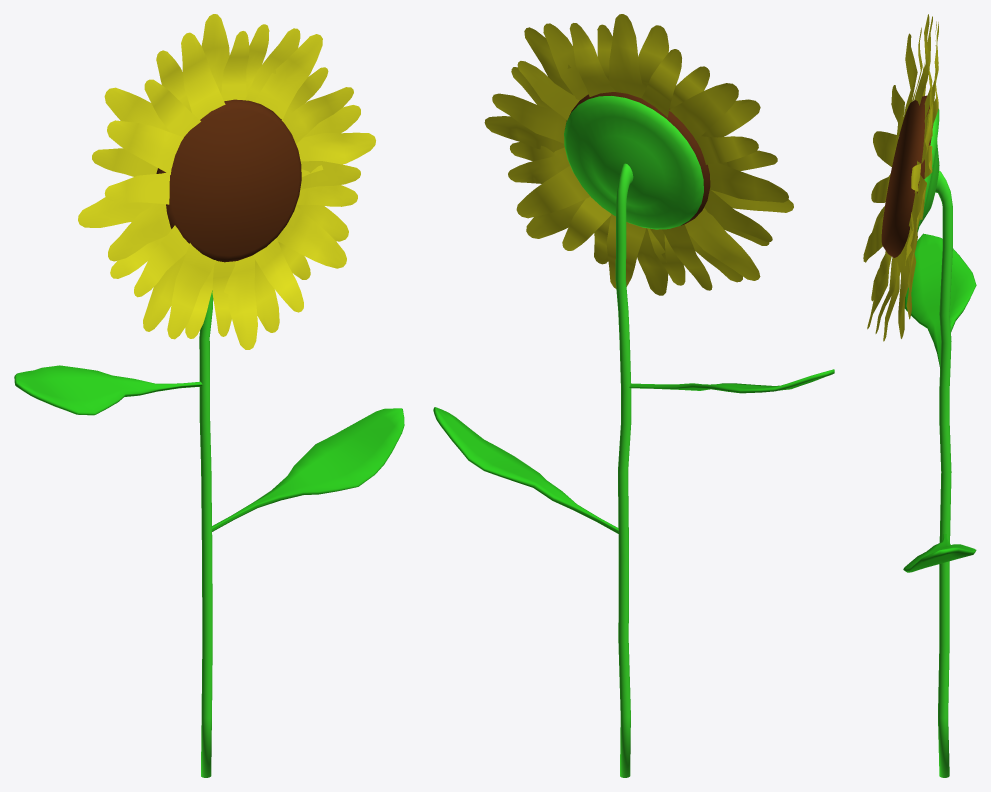
File: sunflower.fbx
The picture shows the model from 3 angles, left to right: view 1: azimuth 30°, elevation 25°; view 2: azimuth 150°, elevation 25°; view 3: azimuth 270°, elevation 25°; orthographic projection.
Visible parts, largest first — view 1: Cabeça; view 2: Cabeça; view 3: Cabeça.
Boxes of the visible parts, x1=… form: Cabeça: x1=14, y1=14, x2=404, y2=777; Cabeça: x1=433, y1=14, x2=834, y2=777; Cabeça: x1=863, y1=14, x2=976, y2=777.
Bounding box in the file's own units: 77.23 × 142 × 19.3.
